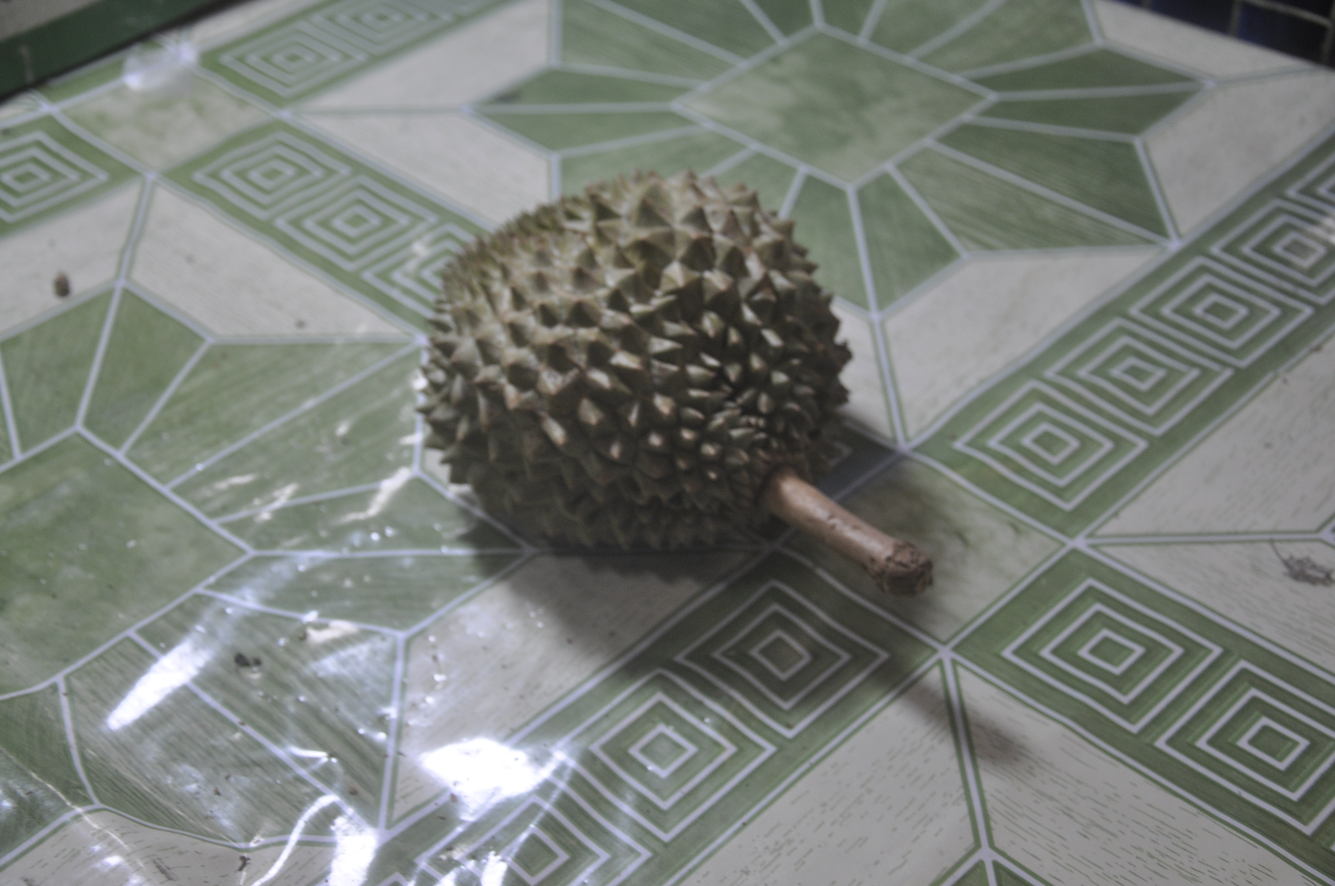mature: (420, 172, 851, 549)
